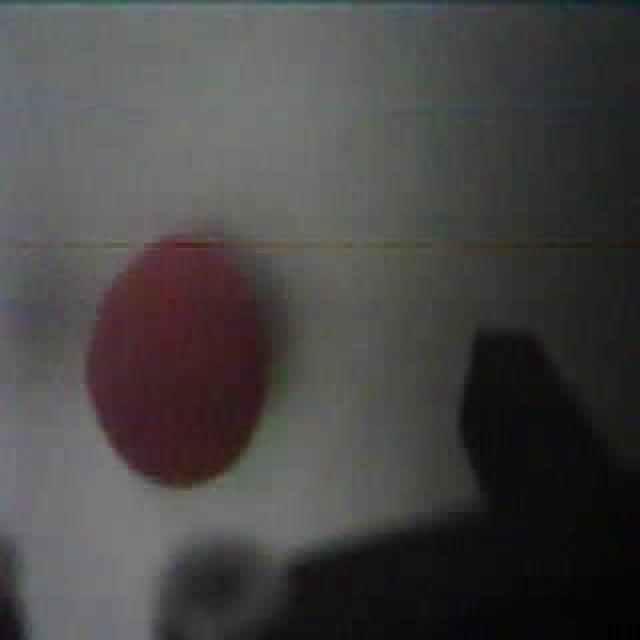red_ball: (82, 232, 276, 491)
